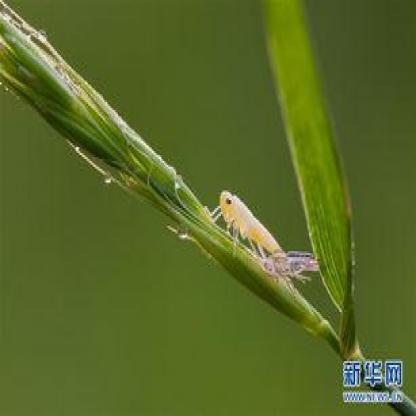Green-Leafhopper: (213, 182, 284, 262), (257, 245, 328, 289)
